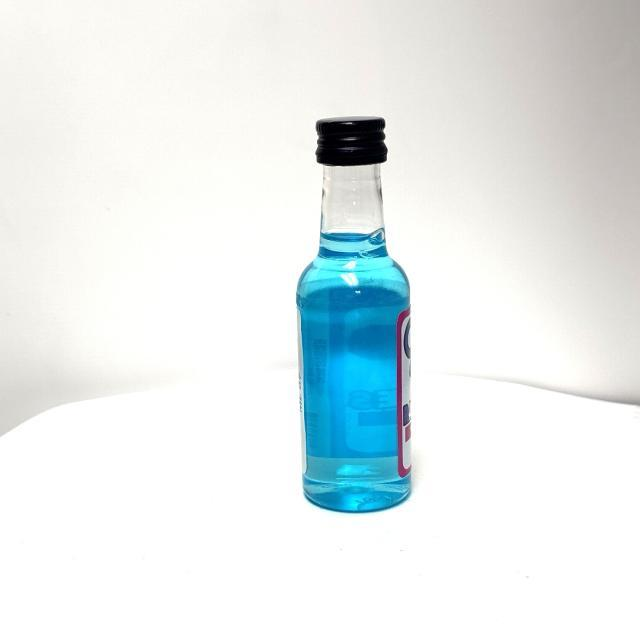99 BLUE RASPBERRY 50 ML: (284, 112, 422, 528)
